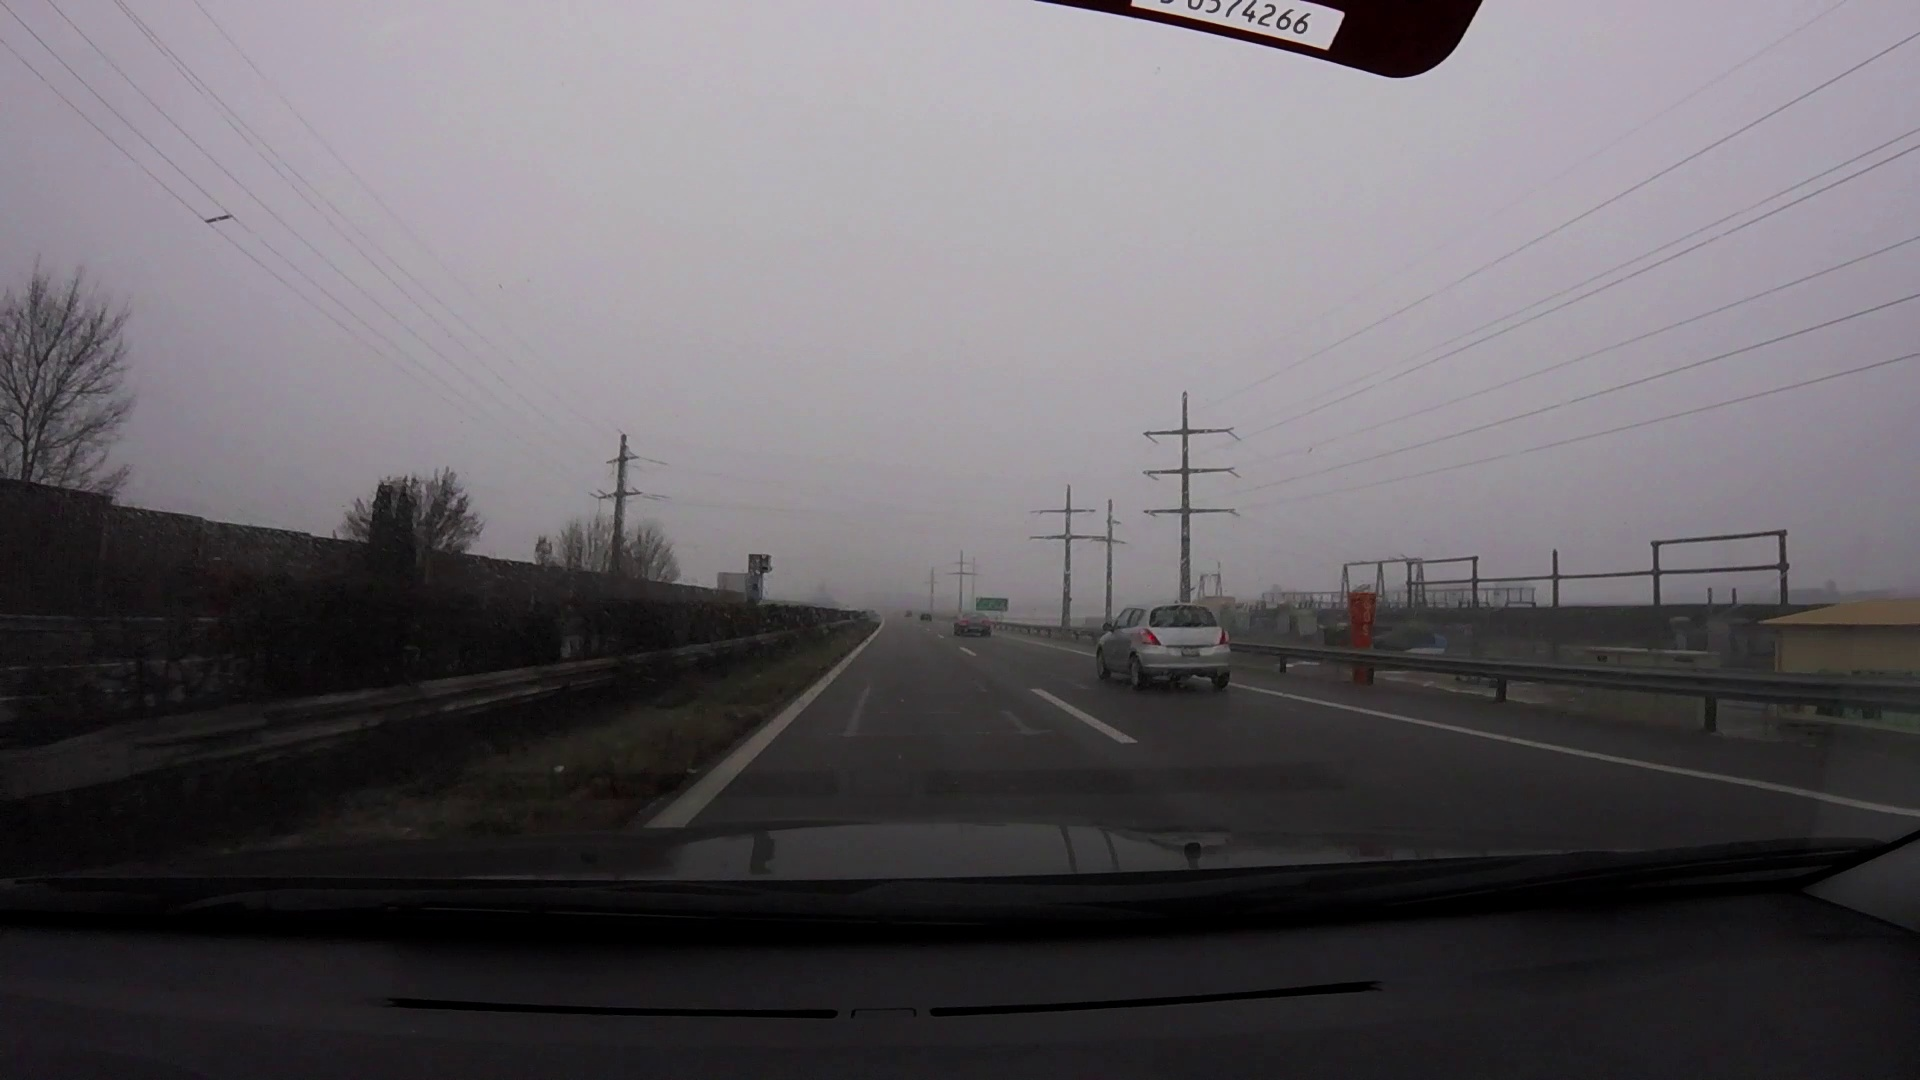radar: (745, 550, 775, 607)
